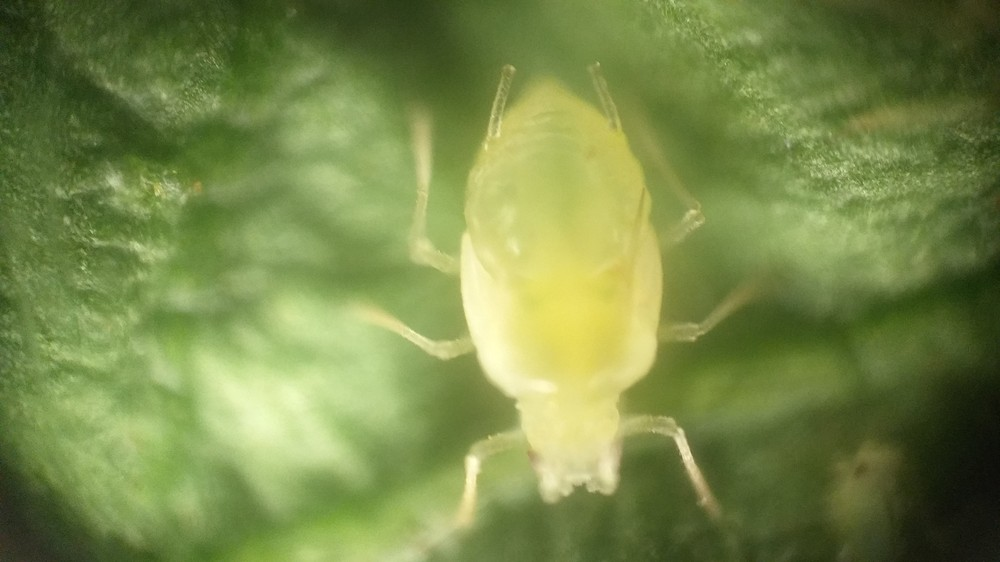Pulgon: (352, 48, 762, 540)
